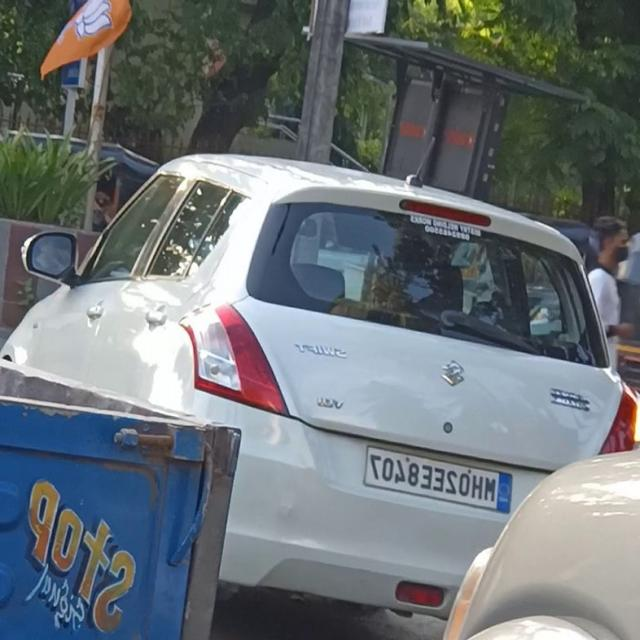license_plate: (356, 428, 520, 526)
